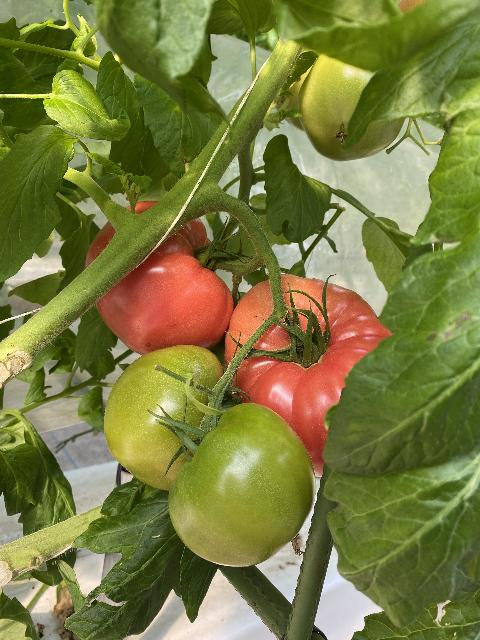b_fully_ripened: (84, 201, 233, 357)
b_green: (168, 403, 316, 568), (104, 345, 222, 490), (298, 54, 406, 162)
b_half_ripened: (224, 274, 391, 477)
